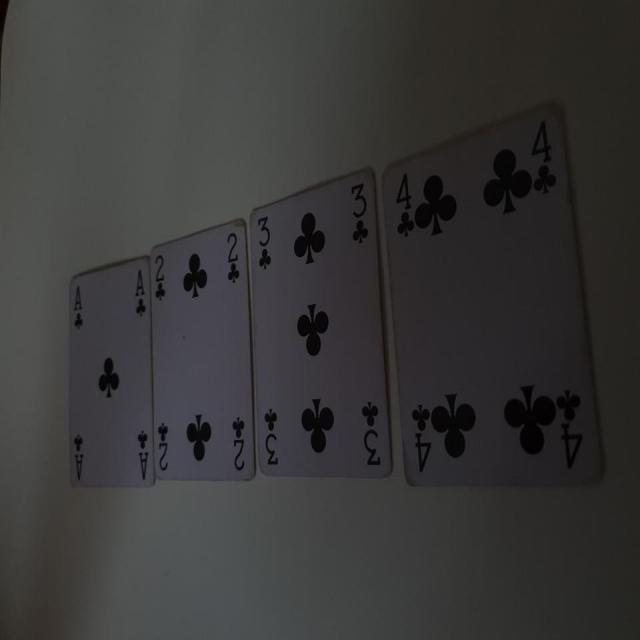2 Trefoils: (149, 217, 256, 483)
3 Trefoils: (248, 166, 394, 481)
4 Trefoils: (381, 104, 610, 492)
A Trefoils: (66, 256, 155, 485)
